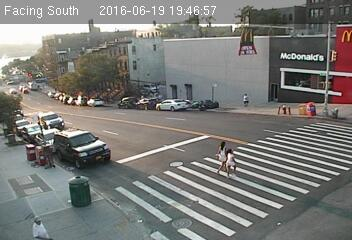neg: (29, 113, 51, 142), (86, 89, 106, 117), (169, 80, 189, 108), (60, 127, 79, 153), (128, 83, 146, 106), (58, 93, 73, 113), (36, 141, 48, 156)
pos: (221, 148, 245, 179), (28, 213, 46, 238), (239, 92, 252, 109)
